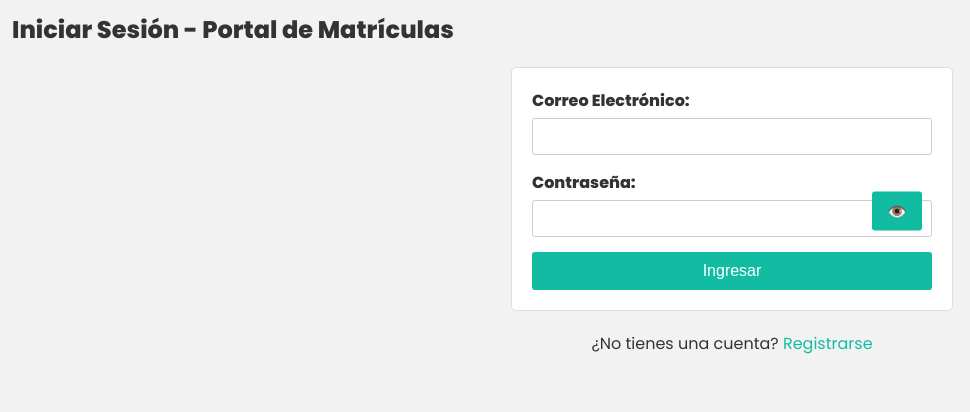
Scenario: Login Page Component › debe mostrar mensaje de error cuando falla el inicio de sesión
Type "user@test.com" into the field labelled "Correo Electrónico:".
click(732, 136); type("user@test.com")  # box [532,118,932,155]
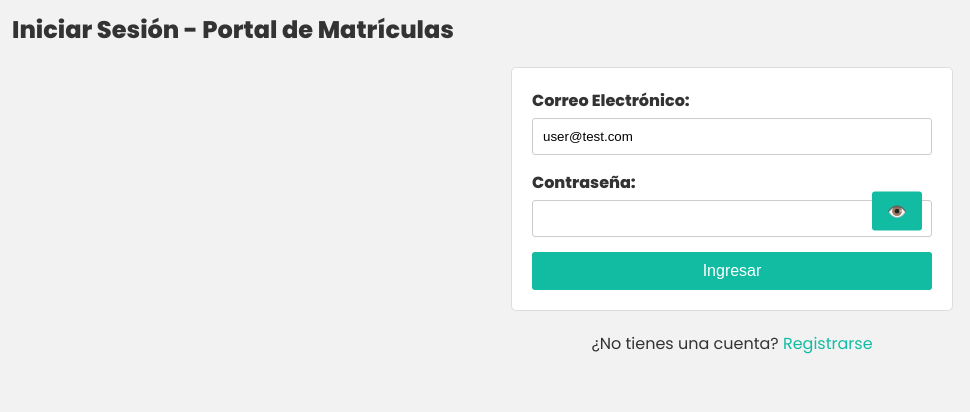
Type "error" into the password field labelled "Contraseña:".
click(732, 218); type("error")  # box [532,200,932,237]
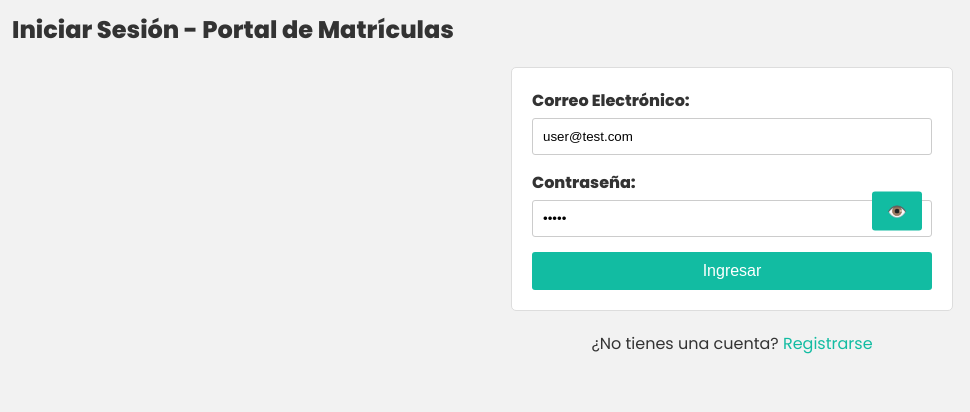
Click the button "Ingresar".
click(732, 271)  # box [532,252,932,290]
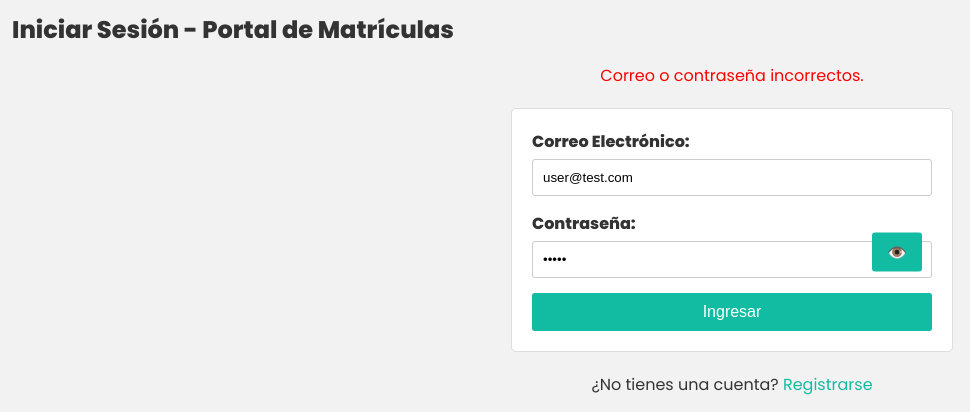
Check: the text "Correo o contraseña incorrectos." is shown, box [600,64,864,87]
